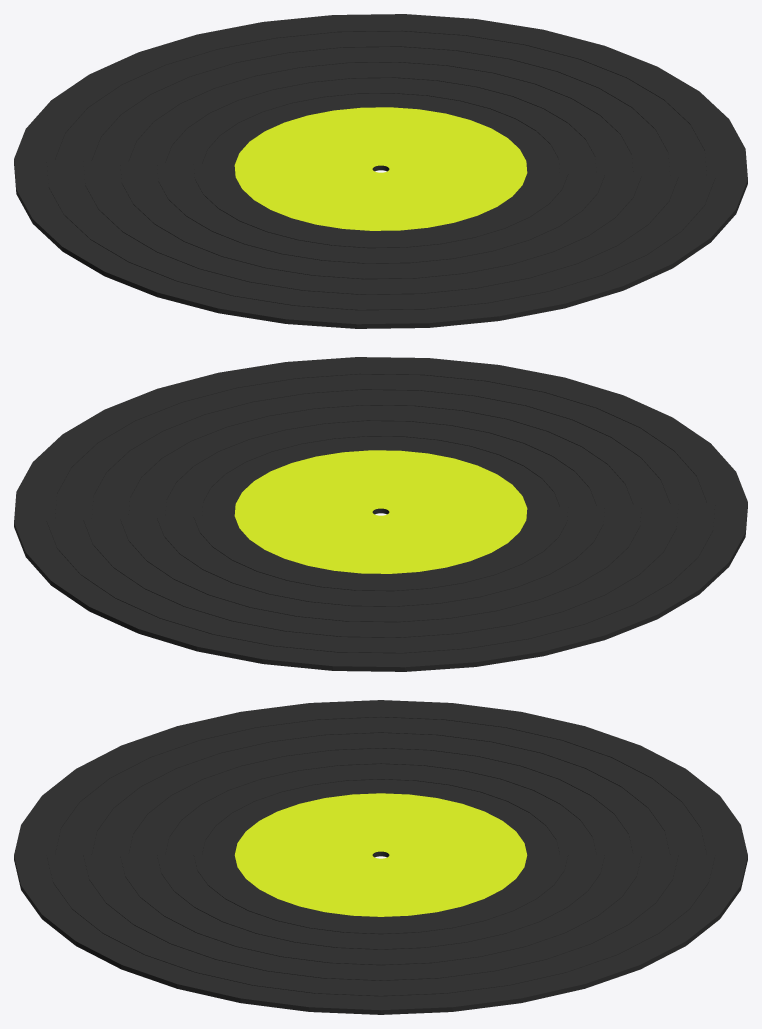
File: record.glb
3 views of the same model, one above another, from view 1: azimuth 30°, elevation 25°; view 2: azimuth 150°, elevation 25°; view 3: azimuth 270°, elevation 25° (orthographic).
Parts seen in each view (by area): view 1: Cylinder002; view 2: Cylinder002; view 3: Cylinder002.
Part boxes in pixels (x1,y1,x2,y2): Cylinder002: [14, 14, 747, 328]; Cylinder002: [14, 357, 747, 671]; Cylinder002: [14, 700, 747, 1014].
Bounding box in the file's own units: 803457 × 6331 × 803457.
